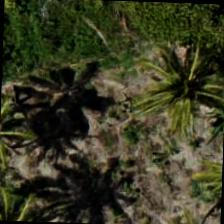Kelapa_Sawit: (144, 39, 223, 134)
